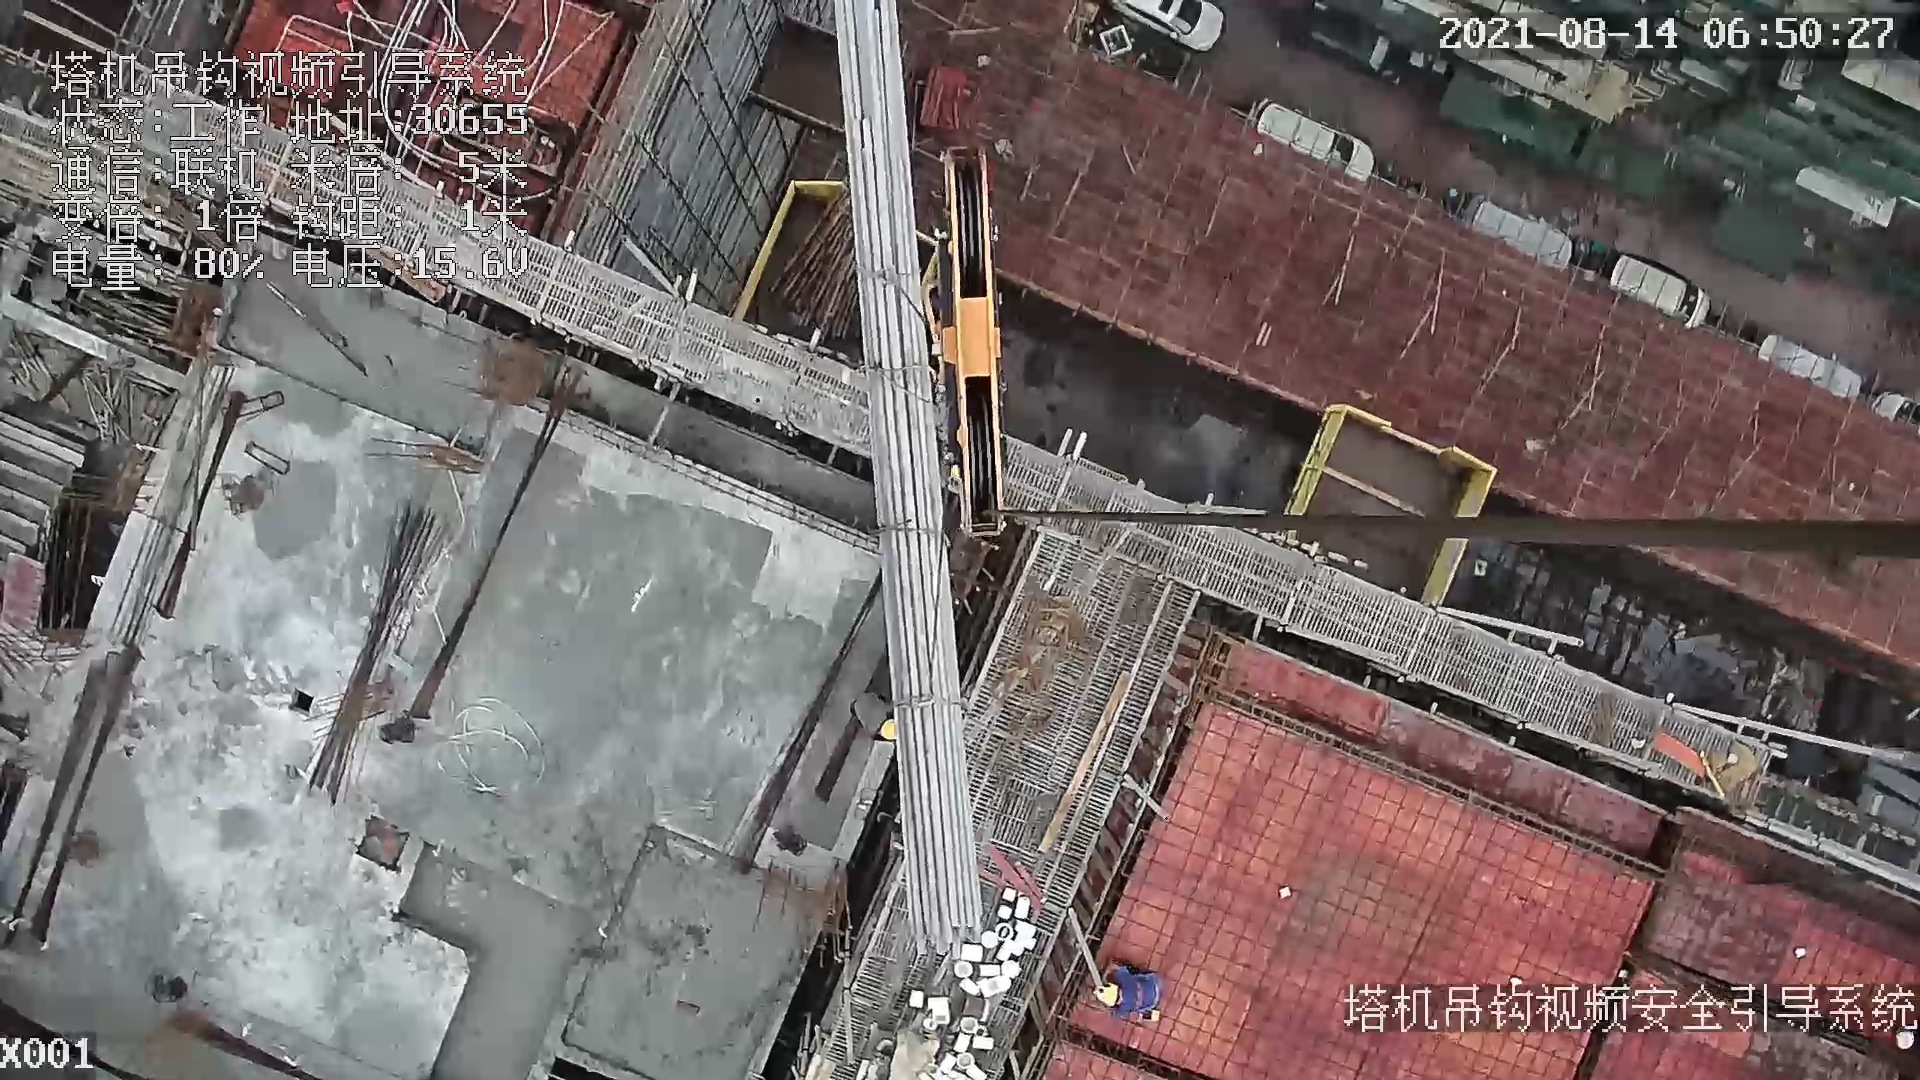helmet: (1093, 977, 1125, 1006), (873, 719, 903, 745)
hook: (909, 133, 1014, 544)
person: (1086, 965, 1164, 1030), (850, 689, 912, 747)
